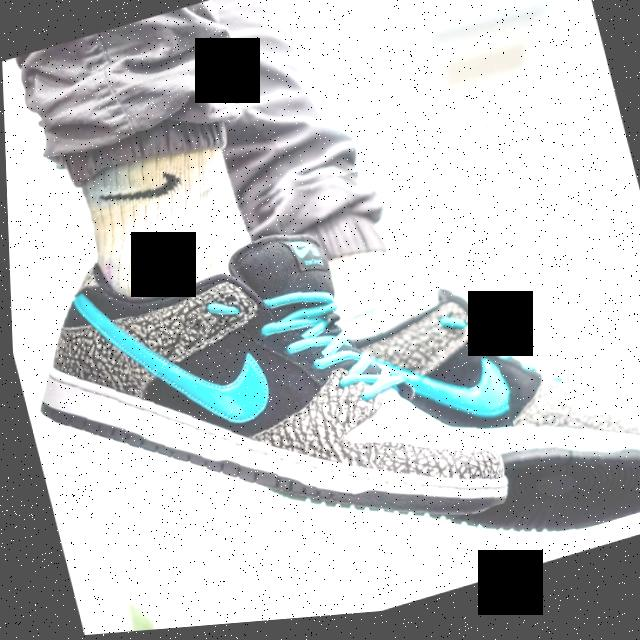shoe: (5, 137, 528, 631), (232, 199, 640, 618)
